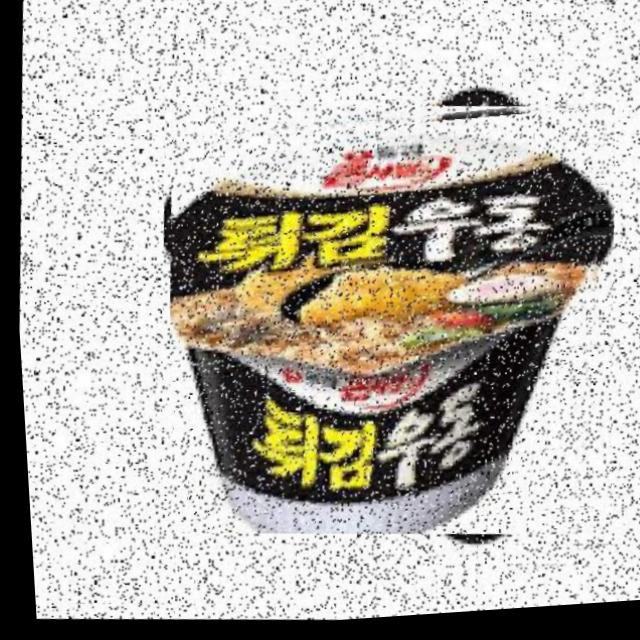Miscellaneous: (139, 78, 625, 565)
